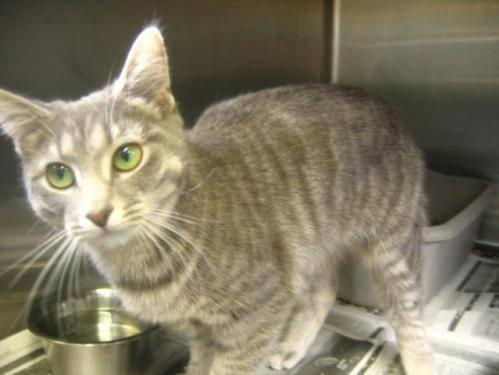cat: (0, 25, 434, 374)
